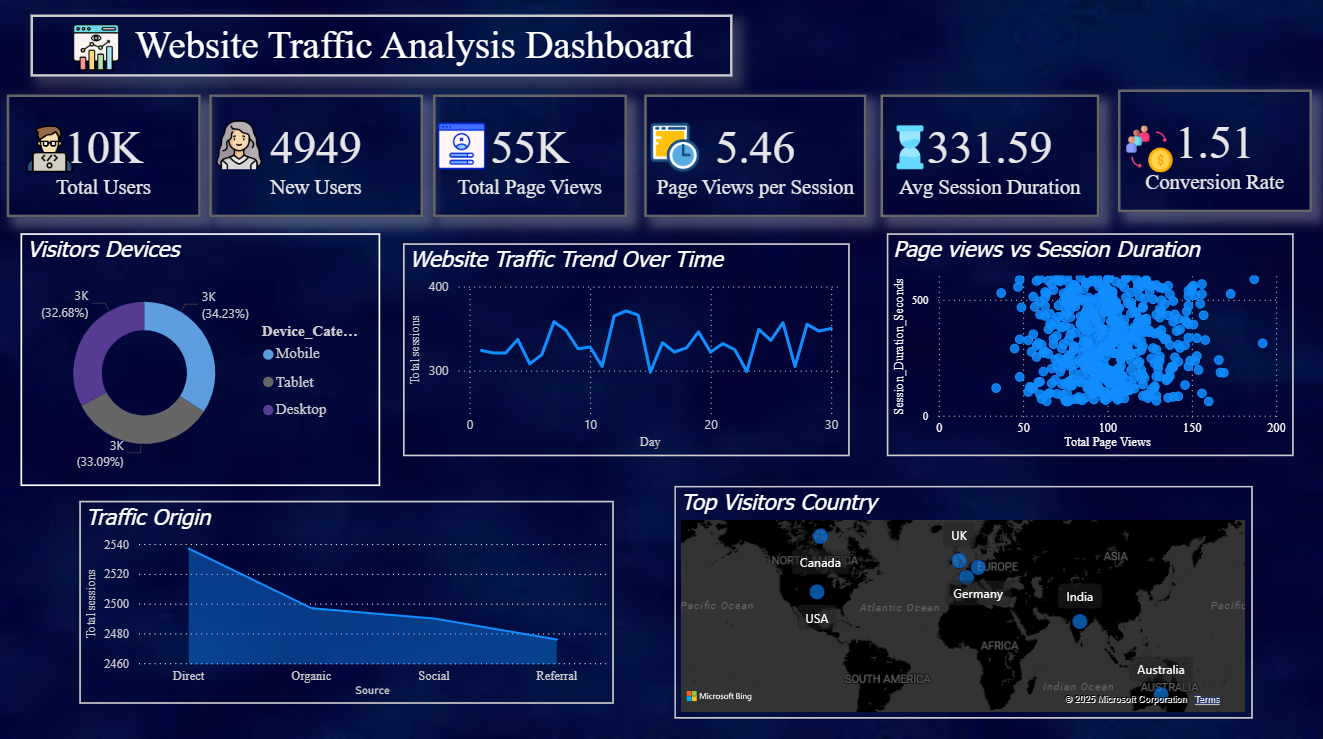

Layout of this report page (visuals, bound fields, positions):
{"tool":"powerbi","page":{"name":"Page 1","canvas":[1280,720],"ordinal":0},"visuals":[{"type":"textbox","box":[31.6,16.5,677.9,60.4],"z":0},{"type":"card","fields":{"Values":["web_marketing_data.Total Users"]},"box":[8.4,94.1,187,118.2],"z":1000},{"type":"lineChart","title":"Website Traffic Trend Over Time","fields":{"Category":["web_marketing_data.Date.Variation.Date Hierarchy.Day"],"Y":["web_marketing_data.Total sessions"]},"box":[391.1,237.4,430.9,205.8],"z":2000},{"type":"donutChart","title":"Visitors Devices","fields":{"Category":["web_marketing_data.Device_Category"],"Y":["web_marketing_data.Total Users"]},"box":[12.1,228,357.1,243.7],"z":3000},{"type":"map","title":"Top Visitors Country","fields":{"Size":["web_marketing_data.Total Users","select"],"Category":["web_marketing_data.Country"]},"box":[398.1,459.7,440.4,231.6],"z":4000},{"type":"scatterChart","title":"Page views vs Session Duration","fields":{"X":["web_marketing_data.Total Page Views"],"Y":["web_marketing_data.Session_Duration_Seconds"]},"box":[857.8,228,410.2,214.7],"z":5000},{"type":"stackedAreaChart","title":"Traffic Origin","fields":{"Category":["web_marketing_data.Source"],"Y":["web_marketing_data.Total sessions"]},"box":[12.1,499.5,358.3,191.8],"z":6000},{"type":"card","fields":{"Values":["web_marketing_data.Avg Session Duration"]},"box":[851.7,94.1,211.1,118.2],"z":7000},{"type":"card","fields":{"Values":["web_marketing_data.New Users"]},"box":[203.9,94.1,206.3,118.2],"z":8000},{"type":"card","fields":{"Values":["web_marketing_data.Conversion Rate"]},"box":[1081,89.3,187,118.2],"z":9000},{"type":"card","fields":{"Values":["web_marketing_data.Page Views per Session"]},"box":[623.7,94.1,214.7,118.2],"z":10000},{"type":"card","fields":{"Values":["web_marketing_data.Total Page Views"]},"box":[419.8,94.1,187,118.2],"z":11000},{"type":"image","box":[12.1,117,50.7,59.1],"z":12000},{"type":"image","box":[203.9,113.4,57.9,59.1],"z":13000},{"type":"image","box":[1081,119.4,61.5,54.3],"z":14000},{"type":"image","box":[624.9,111,56.7,68.8],"z":15000},{"type":"image","box":[419.8,119.4,43.4,56.7],"z":16000},{"type":"image","box":[851.7,111,56.7,67.6],"z":17000},{"type":"image","box":[63.1,20.6,64.5,56.3],"z":18000},{"type":"lineStackedColumnComboChart","title":"Top Performing Campaigns","fields":{"Category":["web_marketing_data.Campaign"],"Y":["Sum(web_marketing_data.Revenue)"]},"box":[851.7,459.7,416.2,244.9],"z":19000}]}

Visuals, with their boxes in screenshot pixels (x1, y1, x2, y2), scaled from the page's 1280x720 canvas onto the 1323x739 screenshot:
textbox: locate(33, 17, 733, 79)
card - web_marketing_data.Total Users: locate(9, 97, 202, 218)
"Website Traffic Trend Over Time" lineChart: locate(404, 244, 850, 455)
"Visitors Devices" donutChart: locate(13, 234, 382, 484)
"Top Visitors Country" map: locate(411, 472, 867, 710)
"Page views vs Session Duration" scatterChart: locate(887, 234, 1311, 454)
"Traffic Origin" stackedAreaChart: locate(13, 513, 383, 710)
card - web_marketing_data.Avg Session Duration: locate(880, 97, 1099, 218)
card - web_marketing_data.New Users: locate(211, 97, 424, 218)
card - web_marketing_data.Conversion Rate: locate(1117, 92, 1311, 213)
card - web_marketing_data.Page Views per Session: locate(645, 97, 867, 218)
card - web_marketing_data.Total Page Views: locate(434, 97, 627, 218)
image: locate(13, 120, 65, 181)
image: locate(211, 116, 271, 177)
image: locate(1117, 123, 1181, 178)
image: locate(646, 114, 704, 185)
image: locate(434, 123, 479, 181)
image: locate(880, 114, 939, 183)
image: locate(65, 21, 132, 79)
"Top Performing Campaigns" lineStackedColumnComboChart: locate(880, 472, 1310, 723)
